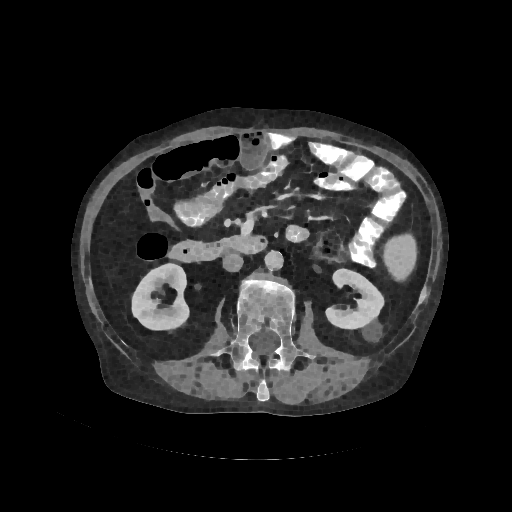Lesion: (357, 318, 385, 346)
